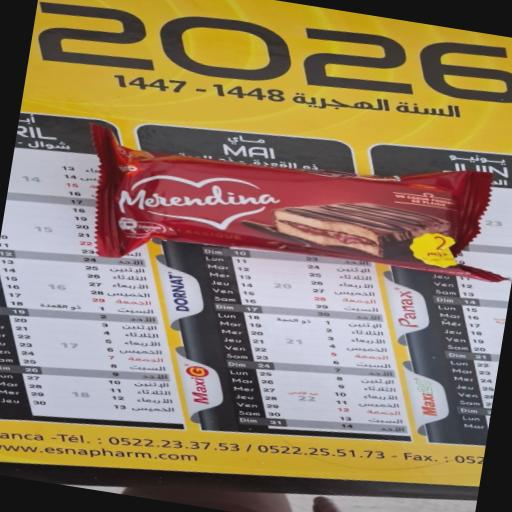merendina: (59, 96, 512, 322)
